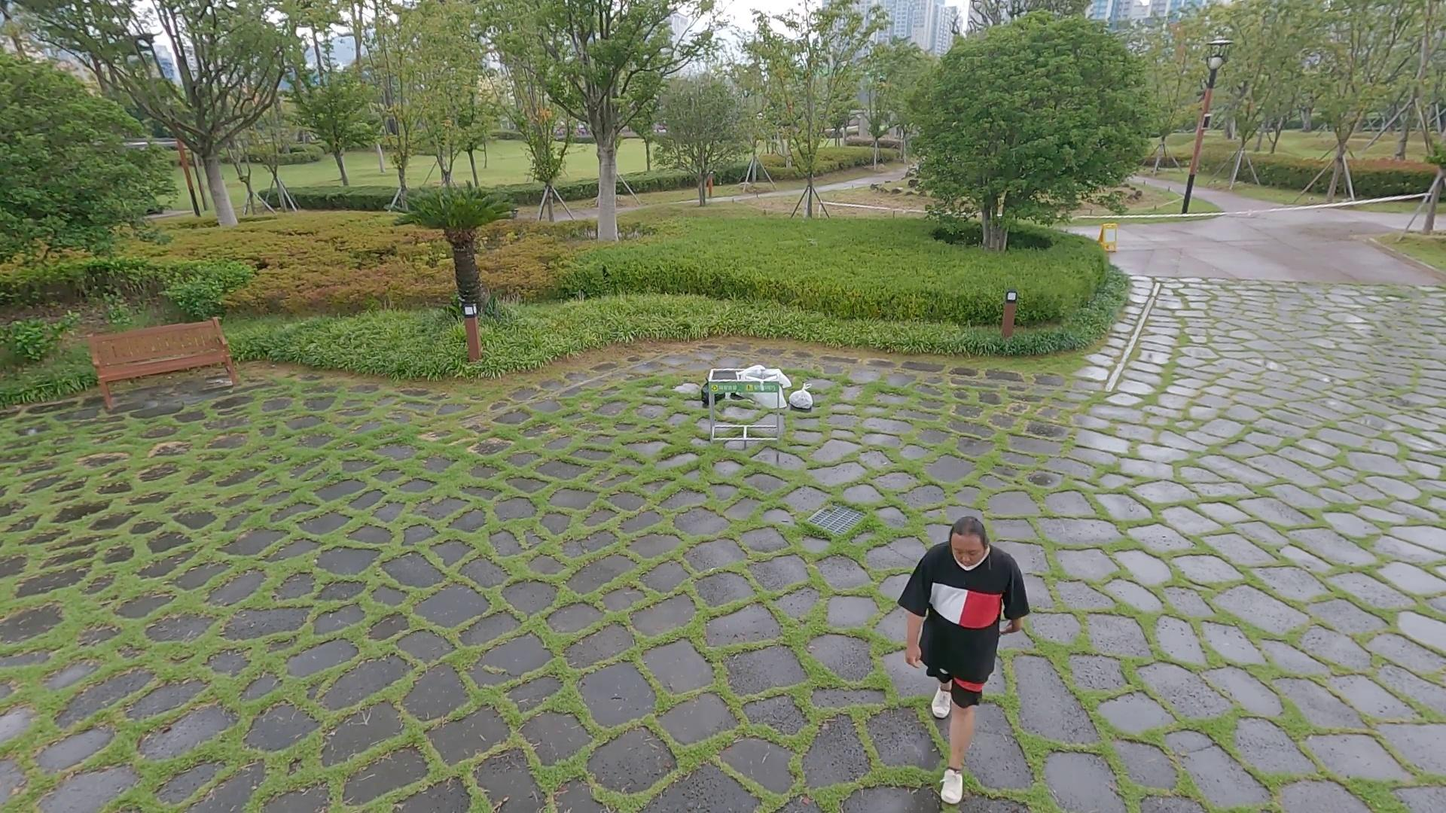person: (891, 516, 1032, 809)
trash: (786, 382, 816, 410), (701, 376, 728, 404)
